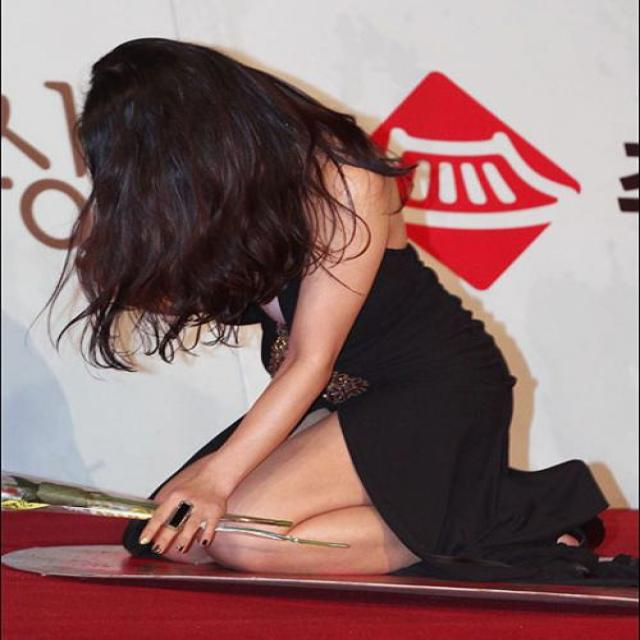down: (48, 21, 630, 602)
